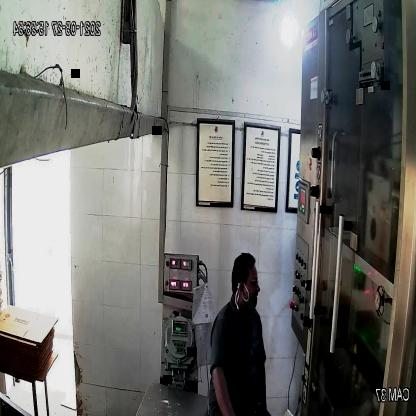goggles: (236, 272, 260, 290)
